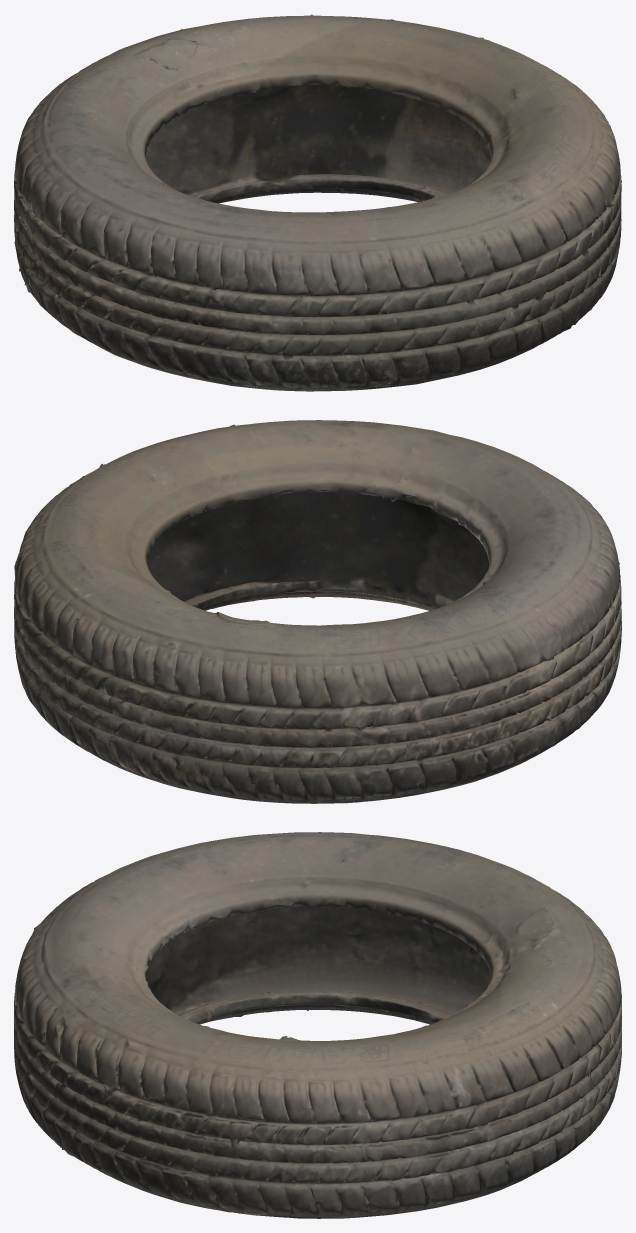
The model's file is Tire1.fbx.
3 renders of one model, top to bottom at view 1: azimuth 30°, elevation 25°; view 2: azimuth 150°, elevation 25°; view 3: azimuth 270°, elevation 25°, orthographic.
Visible parts, largest first — view 1: Junked Tire; view 2: Junked Tire; view 3: Junked Tire.
Part boxes in pixels (left/top/right/bottom): Junked Tire: left=14, top=14, right=621, bottom=391; Junked Tire: left=14, top=420, right=621, bottom=803; Junked Tire: left=14, top=832, right=621, bottom=1218.
Bounding box in the file's own units: 97.77 × 30.59 × 97.45.
Materials: 1 (1 with a texture image).
